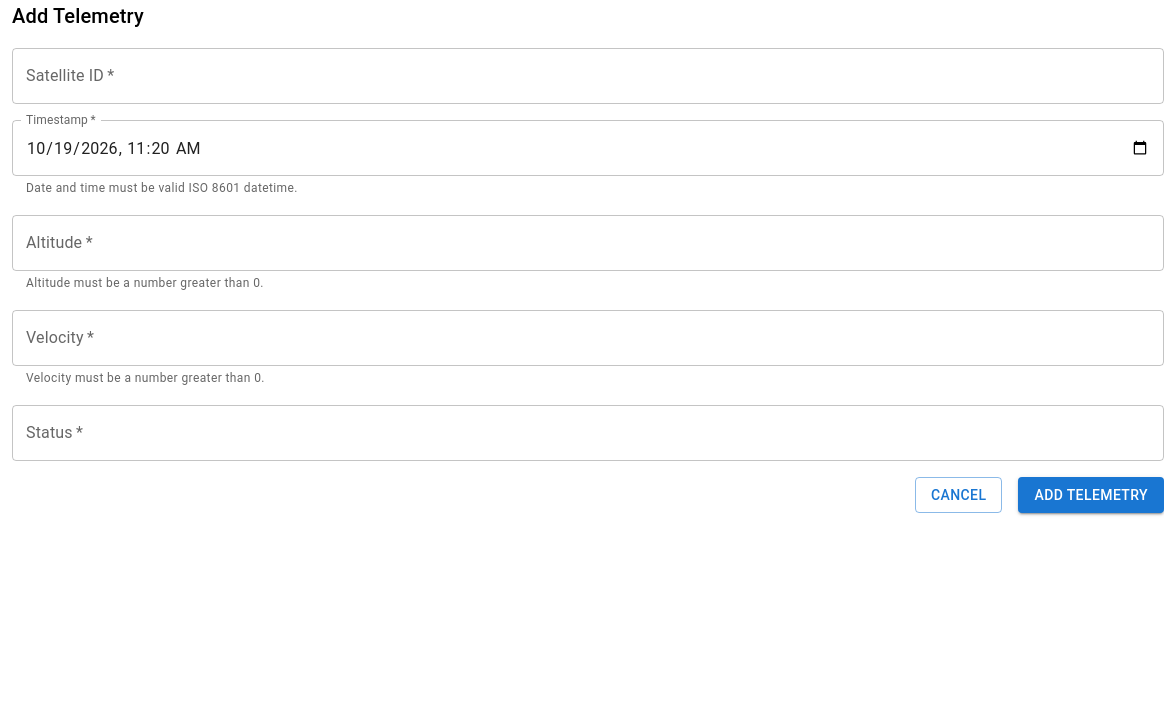
Test: TelemetryForm › shows a validation error when altitude is zero
Type "SAT-001" into the field with id "telemetry-satellite-id" at (588, 76), box [12,48,1164,104]
Replace the text in the field with id "telemetry-timestamp" with "2026-10-17T12:00" at (588, 148), box [12,120,1164,176]
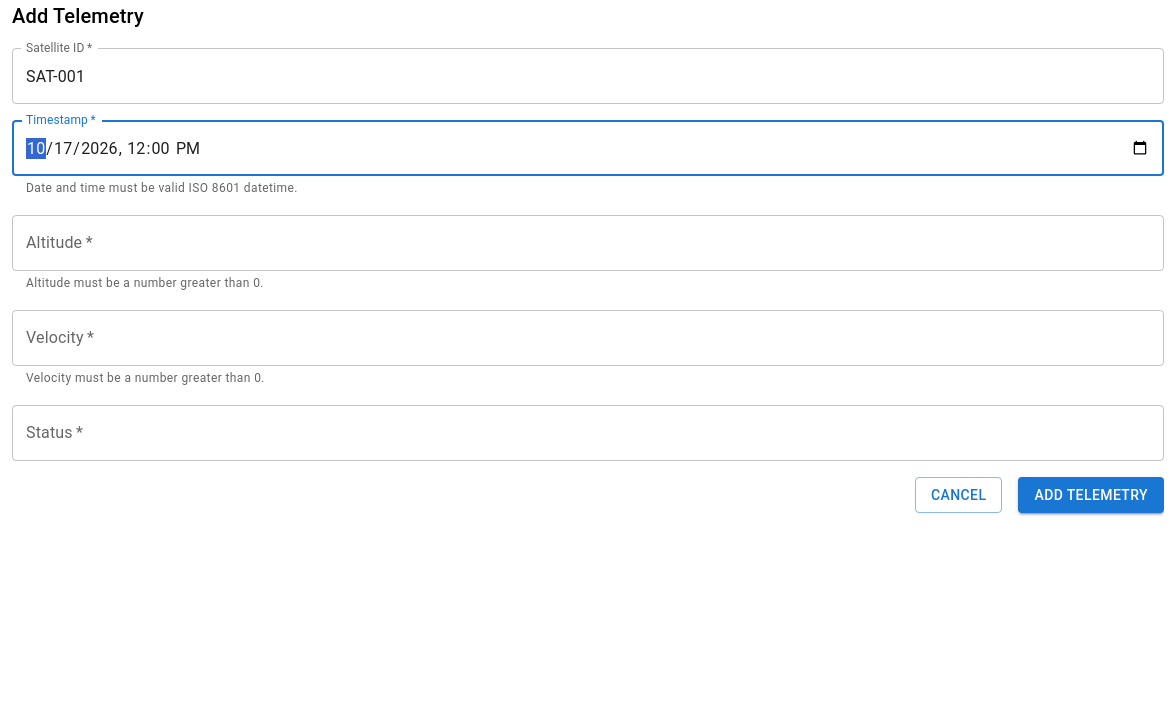
Type "400" into the number field with id "telemetry-altitude" at (588, 243), box [12,215,1164,271]
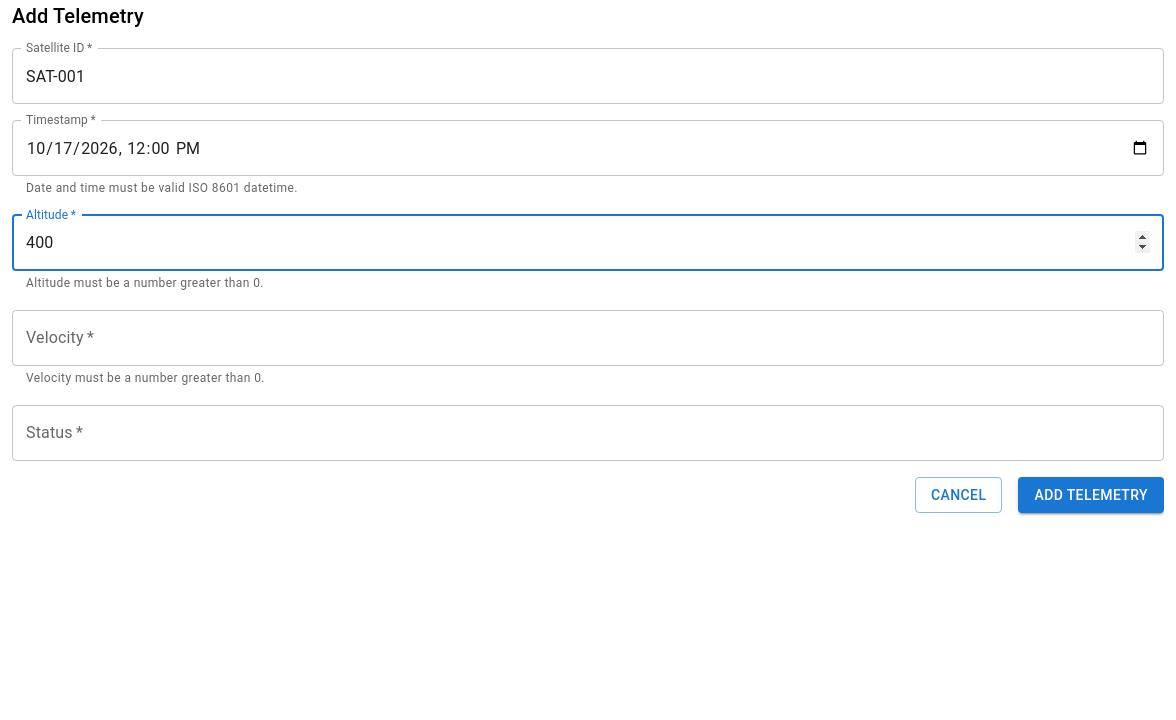
Type "7.8" into the number field with id "telemetry-velocity" at (588, 338), box [12,310,1164,366]
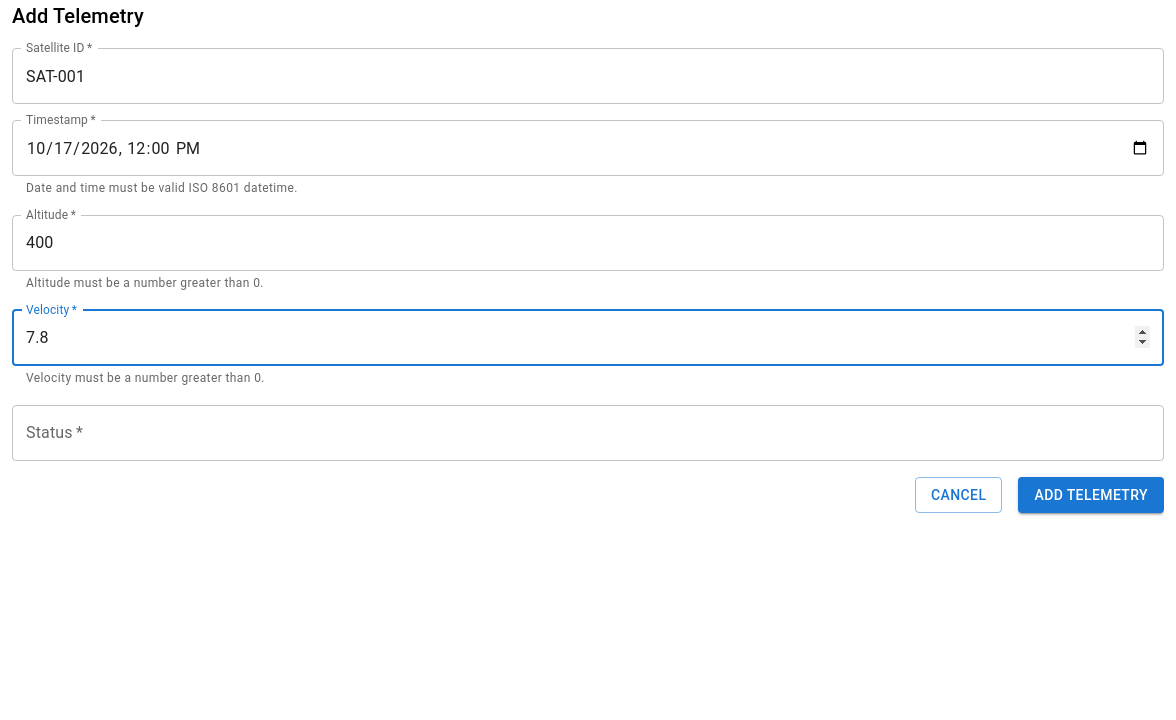
Type "nominal" into the field with id "telemetry-status" at (588, 433), box [12,405,1164,461]
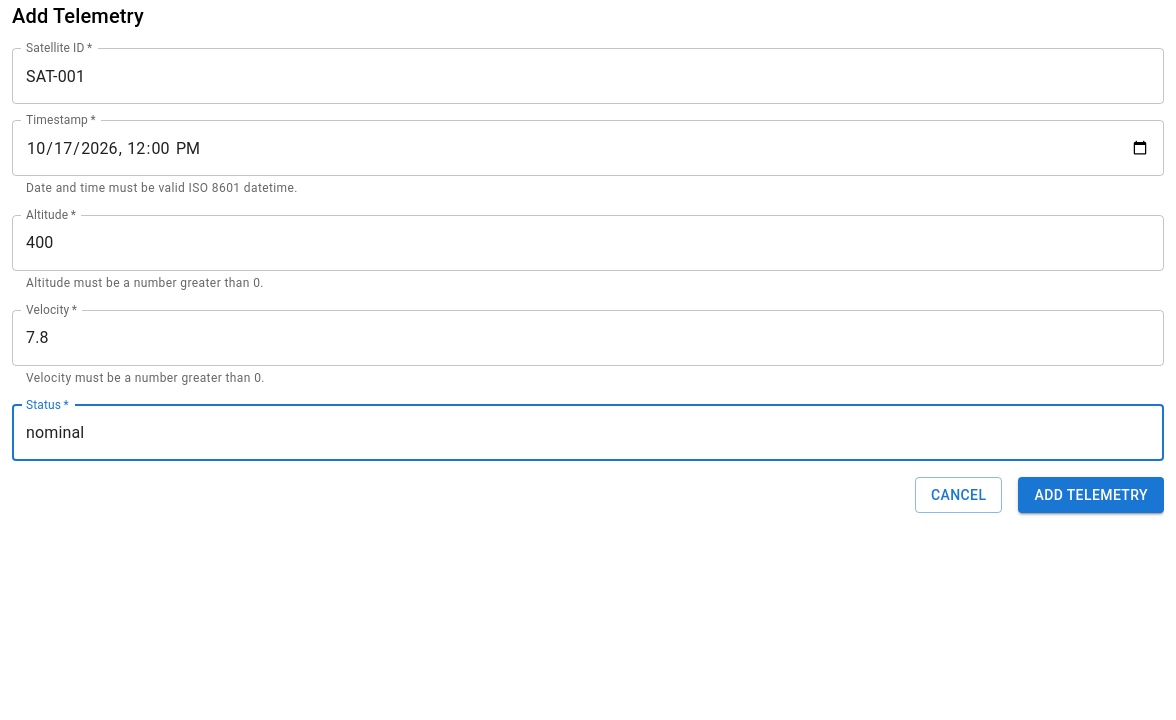
Replace the text in the number field with id "telemetry-altitude" with "0" at (588, 243), box [12,215,1164,271]
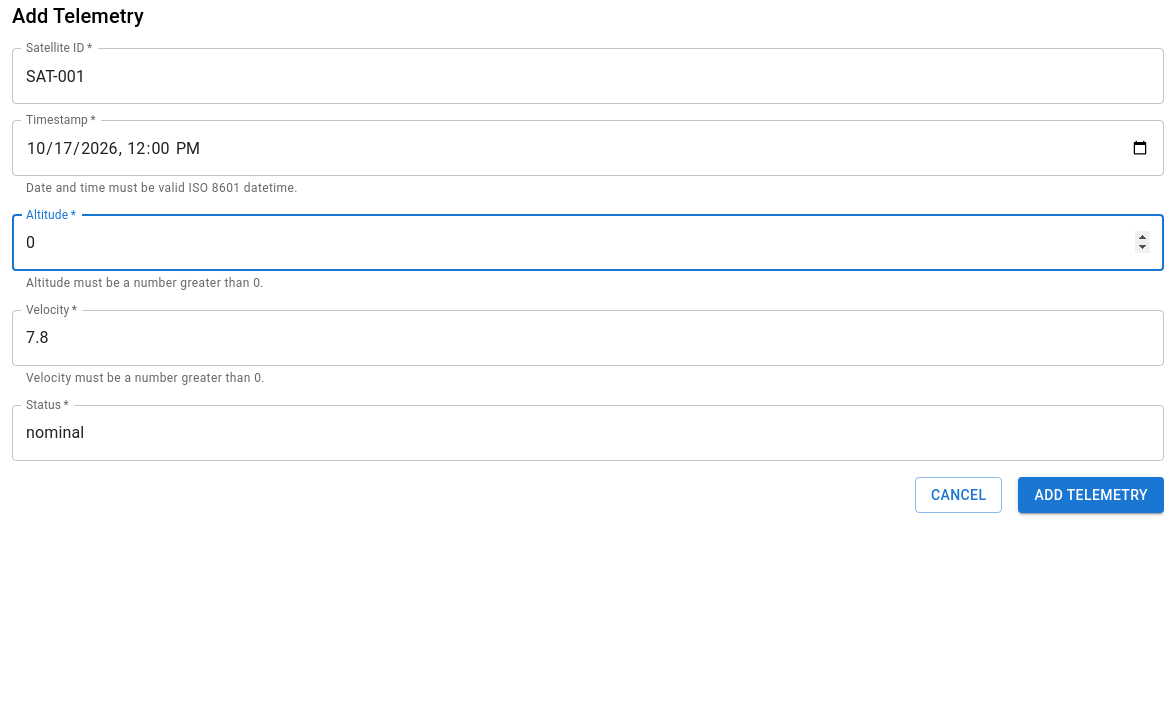
Click the button "Add Telemetry" at (1091, 495), box [1018,477,1164,513]
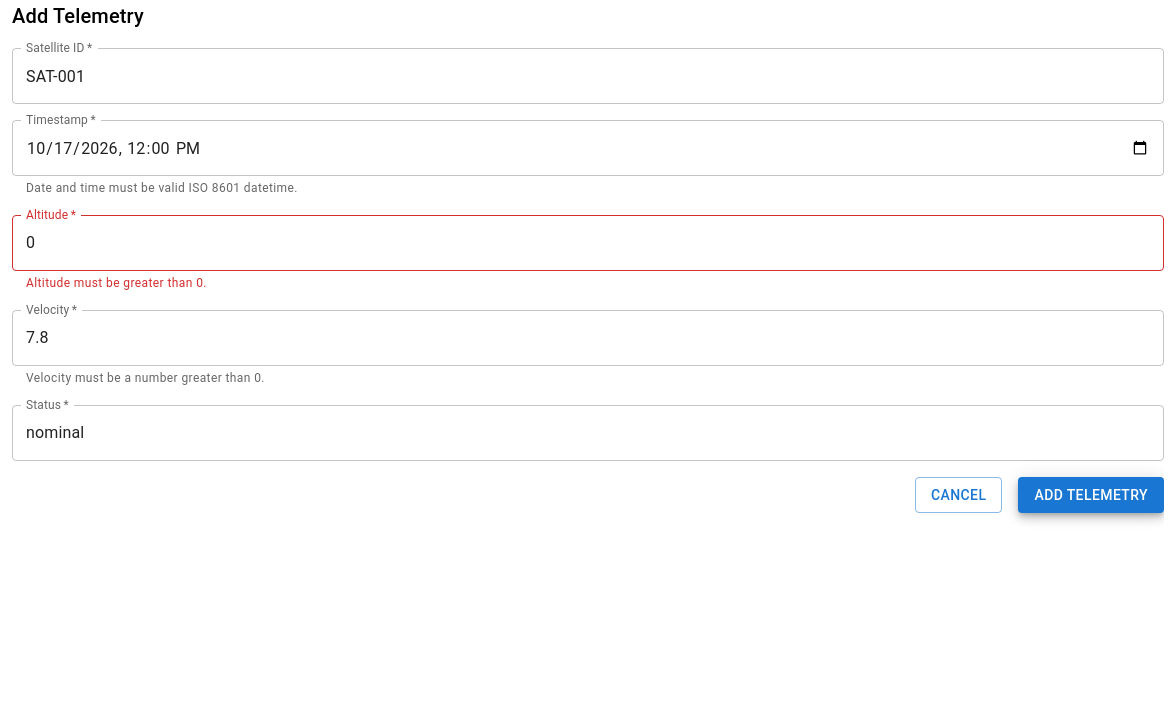
Now the text "Altitude must be greater than 0." is shown, box [26,276,207,290]
